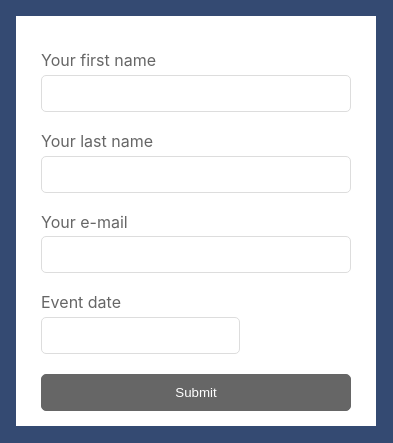
Test: EventForm component › all data entered correctly - button enabled
Type "test" into the field labelled "Your first name".
click(196, 93); type("test")  # box [41,75,351,112]
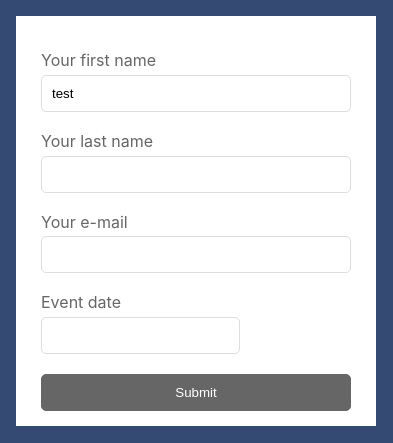
Type "test" into the field labelled "Your last name".
click(196, 174); type("test")  # box [41,156,351,193]
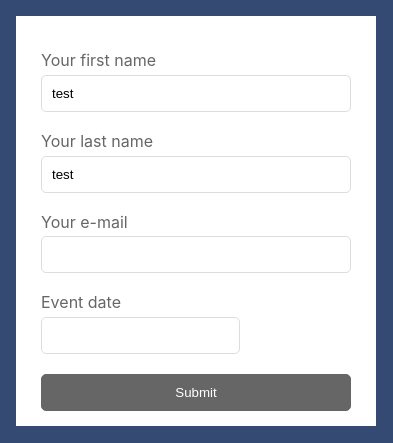
Type "test@test.pl" into the field labelled "Your e-mail".
click(196, 255); type("test@test.pl")  # box [41,236,351,273]
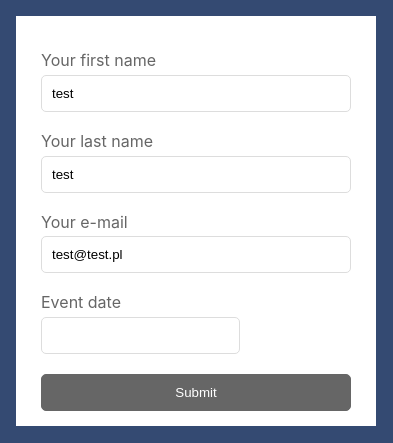
Type "07/16/2022" into the field labelled "Event date".
click(140, 336); type("07/16/2022")  # box [41,317,240,354]
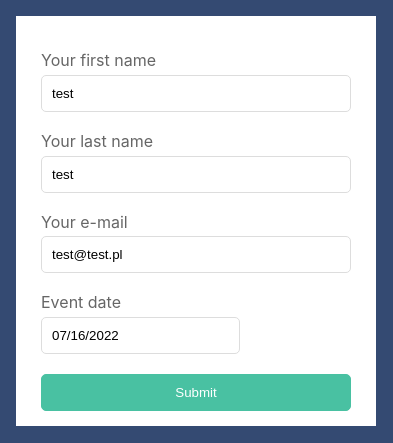
Now the button "Submit" is enabled, box [41,374,351,411]
